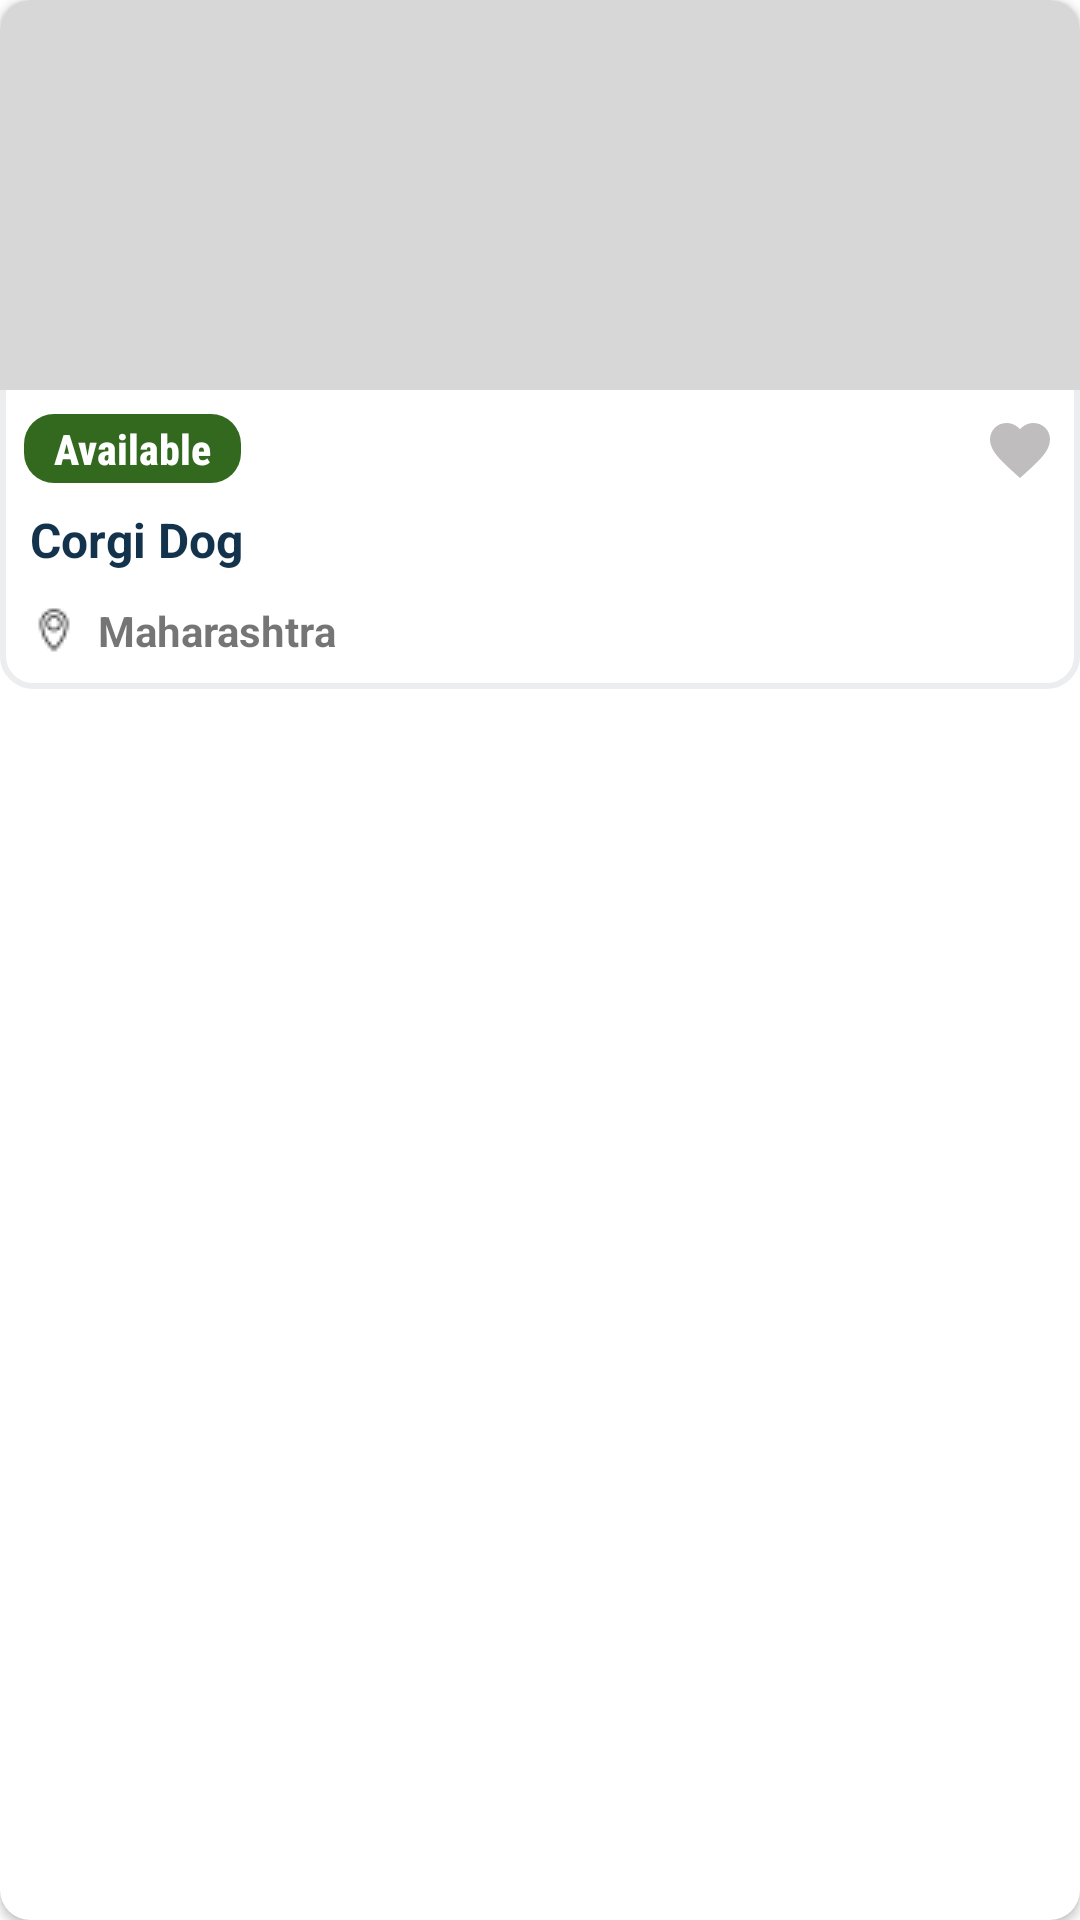

Named icons in this screenshot (1080px×1920px) and their centers, [x,y]:
unlike: [1020,450]
